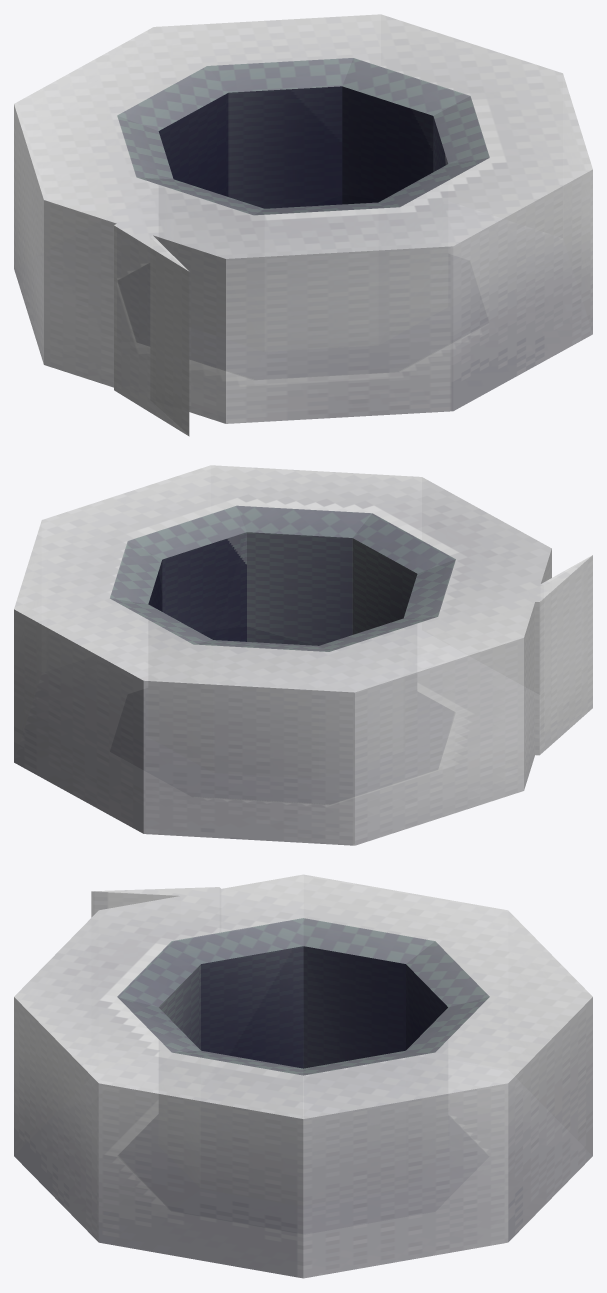
Rendered from Scotch.fbx.
3 renders of one model, top to bottom at view 1: azimuth 30°, elevation 25°; view 2: azimuth 150°, elevation 25°; view 3: azimuth 270°, elevation 25°, orthographic. The views are drawn at different scales.
Visible parts, largest first — view 1: Cylinder.008; view 2: Cylinder.008; view 3: Cylinder.008.
Part boxes in pixels (x1,y1,x2,y2): Cylinder.008: (14,14,592,436); Cylinder.008: (14,465,592,845); Cylinder.008: (14,874,592,1278).
Size of the model in its own units: 0.027 by 0.00819 by 0.027.
Materials: 2 (2 with a texture image).
